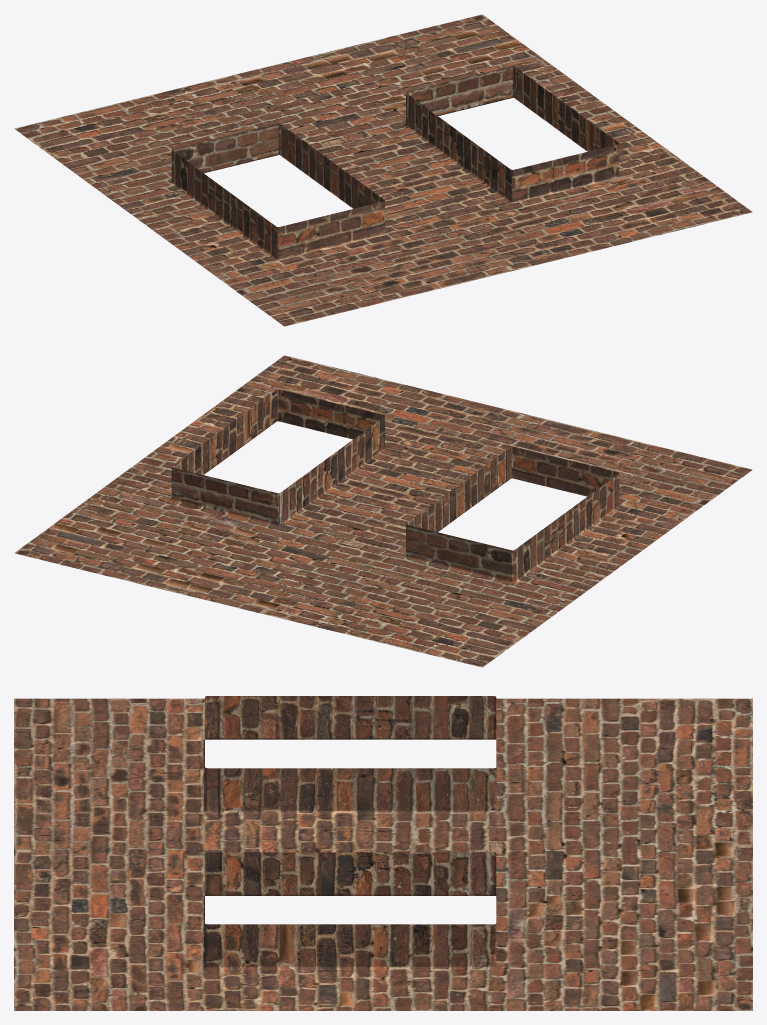
The model's file is wall_window_centered_double_02.gltf.
3 views of the same model, one above another, from view 1: azimuth 30°, elevation 25°; view 2: azimuth 150°, elevation 25°; view 3: azimuth 270°, elevation 25° (orthographic). The views are drawn at different scales.
Visible parts, largest first — view 1: wall_window_centered_double_02; view 2: wall_window_centered_double_02; view 3: wall_window_centered_double_02.
Boxes of the visible parts, <box> form: wall_window_centered_double_02: <box>14,14,752,326</box>; wall_window_centered_double_02: <box>14,355,752,667</box>; wall_window_centered_double_02: <box>14,696,752,1010</box>.
Size of the model in its own units: 3 by 0.2 by 3.
Materials: 1 (1 with a texture image).
